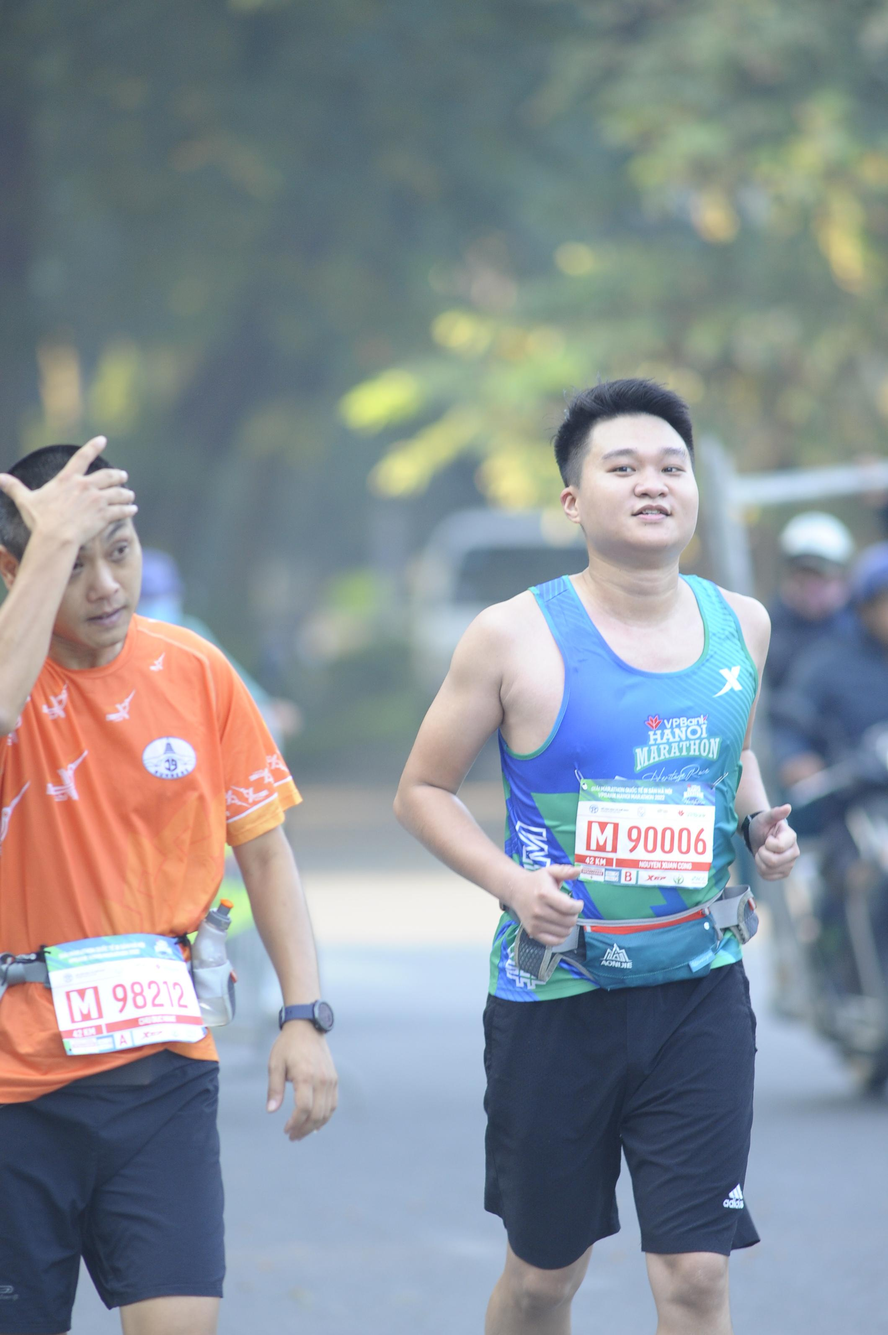bib: (44, 935, 205, 1057), (572, 778, 717, 890)
